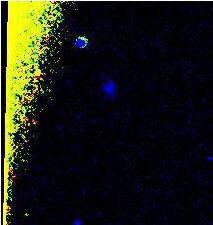star: (9, 198, 39, 225)
